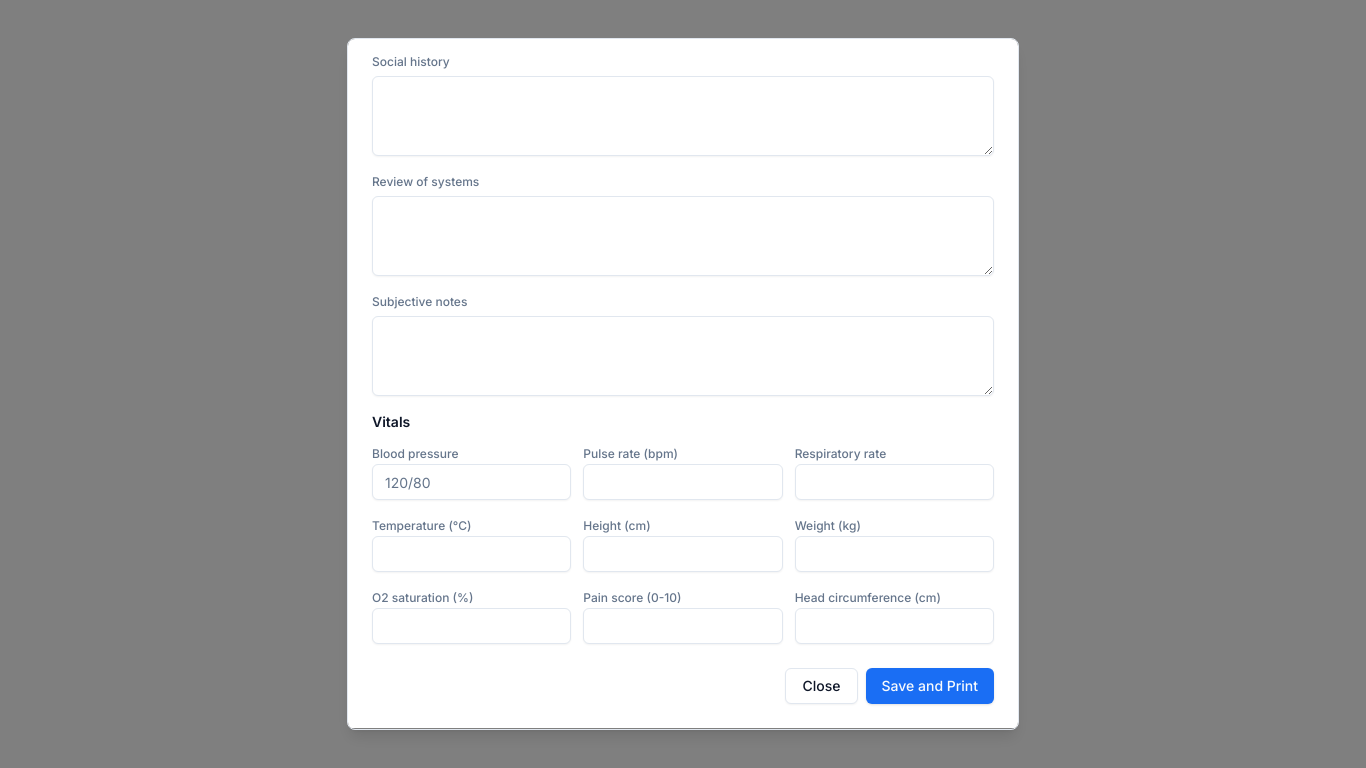
Test: ReceptionVitalsDialog - approved pre-entry scope (Task #6) › shows the backend's message when the save fails (e.g. a signed consultation)
(page scrolled)
Type "36.5" into the number field below "Temperature (°C)". click: (472, 554)
box: x1=372 y1=536 x2=571 y2=572
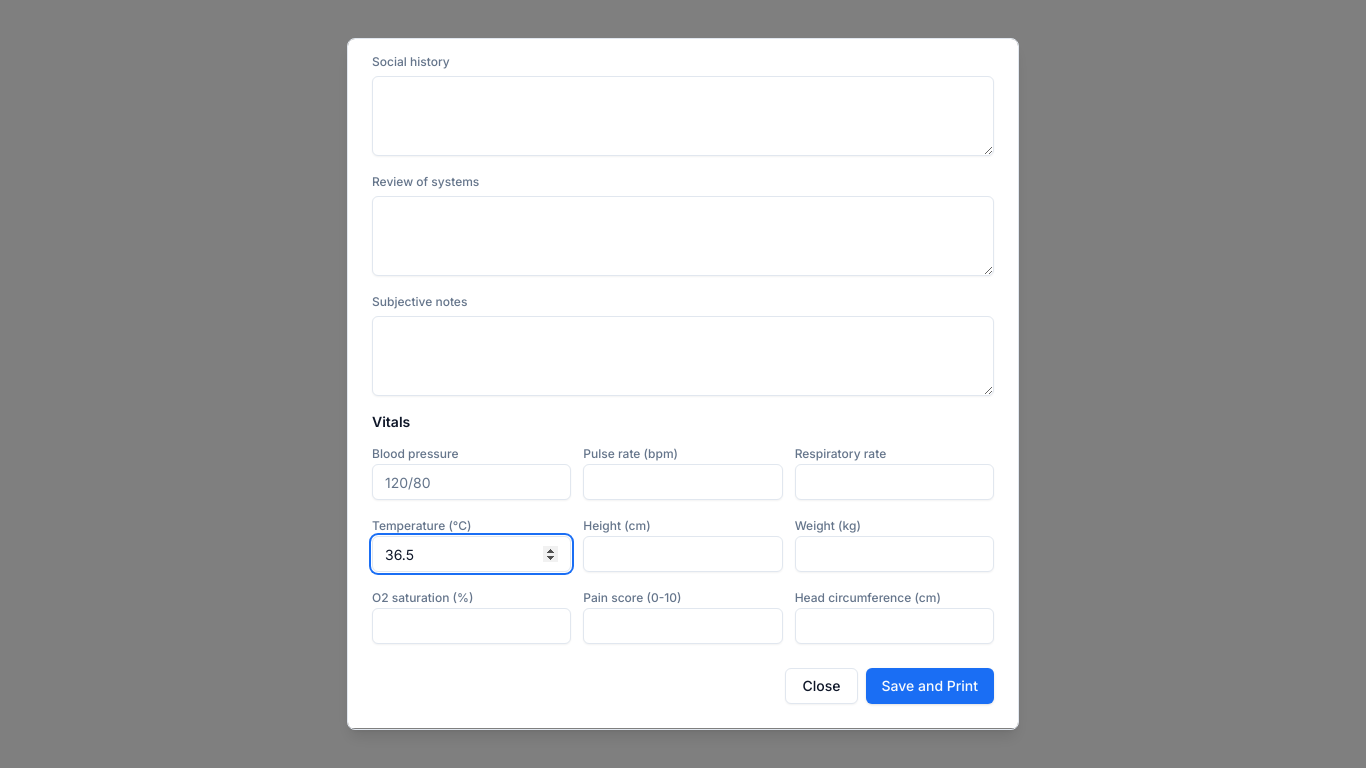
Click the button "Save and Print". click: (930, 686)
box: x1=866 y1=668 x2=994 y2=704
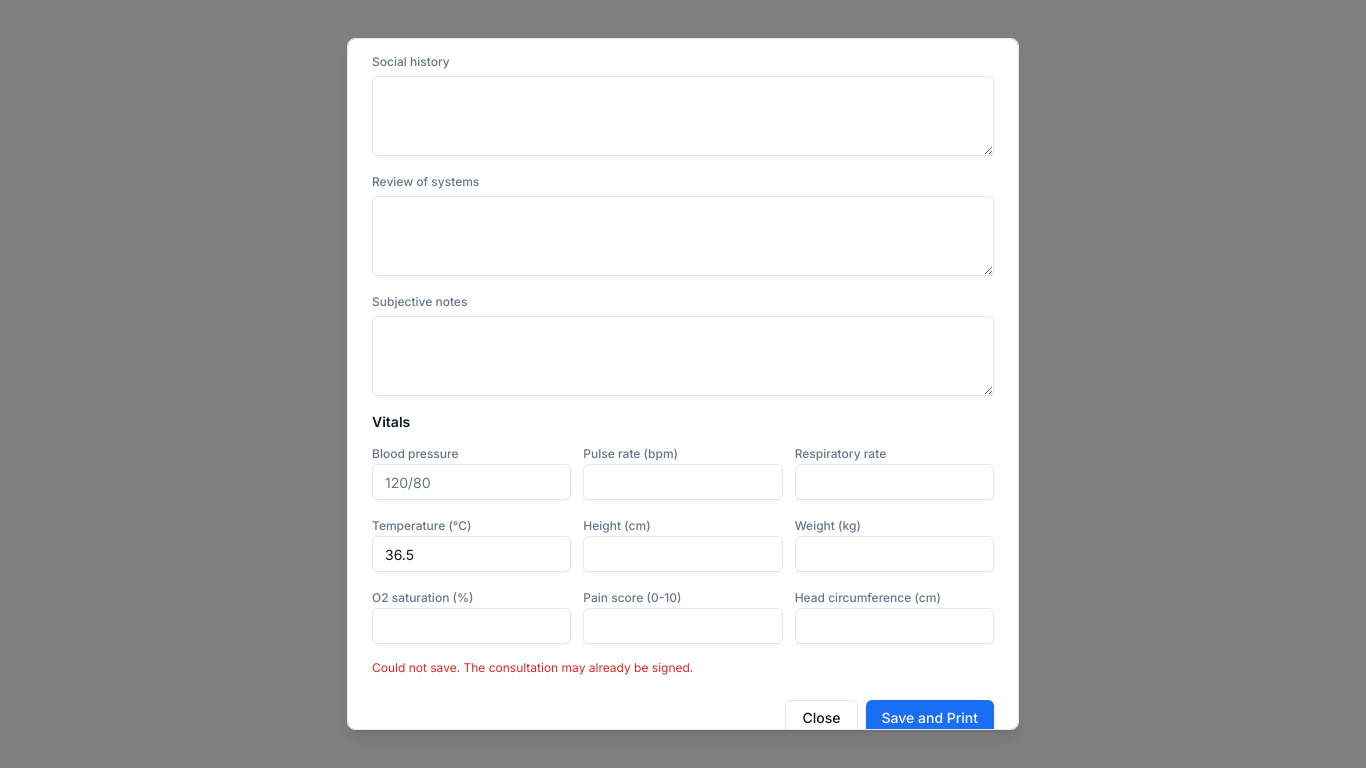
expect the text "Could not save. The consultation may already be signed." is shown: met, box x1=372 y1=660 x2=693 y2=675
